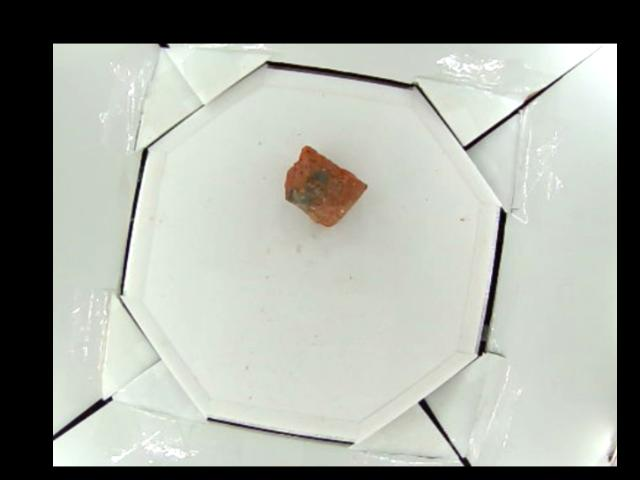Brisk: (286, 143, 365, 224)
